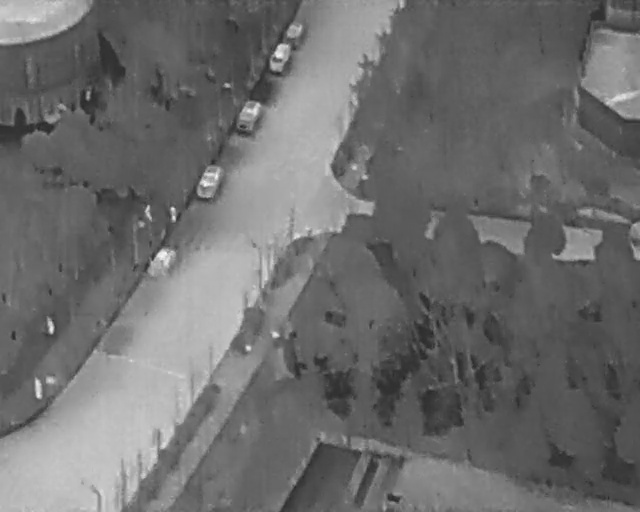Car: (149, 238, 184, 283), (194, 159, 225, 203), (232, 97, 264, 137), (268, 39, 293, 75), (284, 18, 307, 47)
Person: (32, 375, 43, 400), (44, 315, 56, 336), (145, 205, 155, 224), (168, 204, 176, 223)
